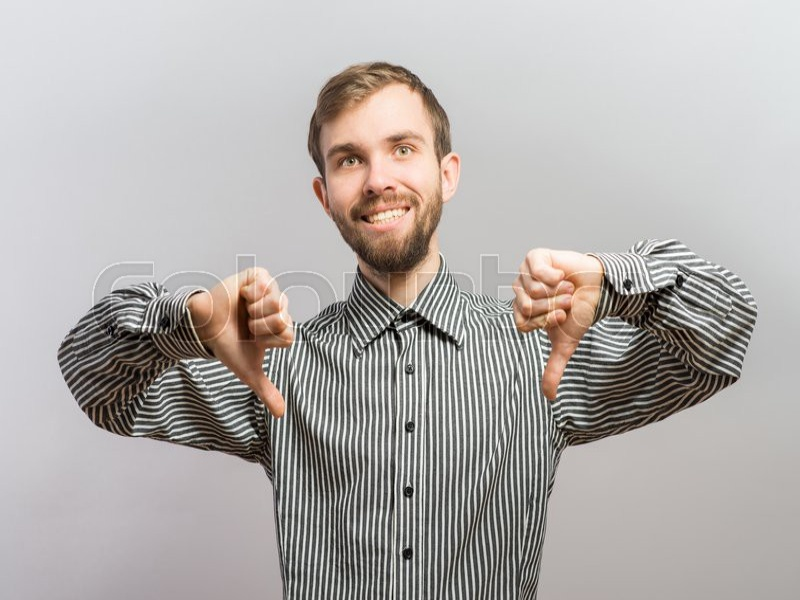smile: (324, 82, 439, 265)
